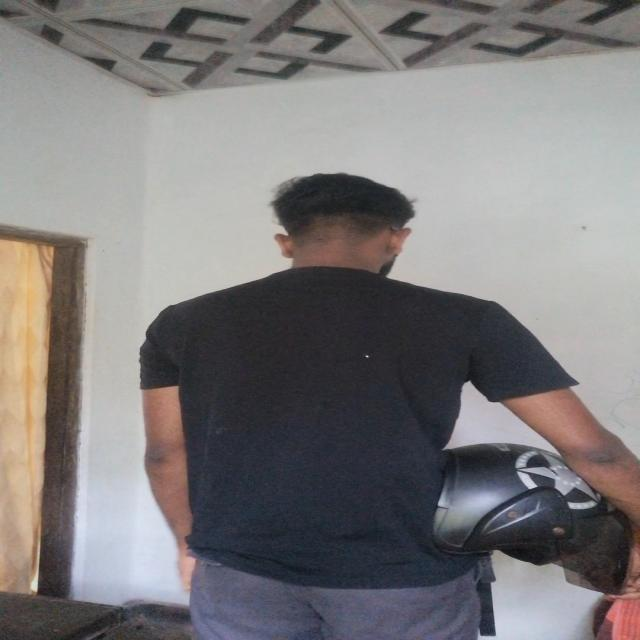Person: (130, 167, 639, 640)
